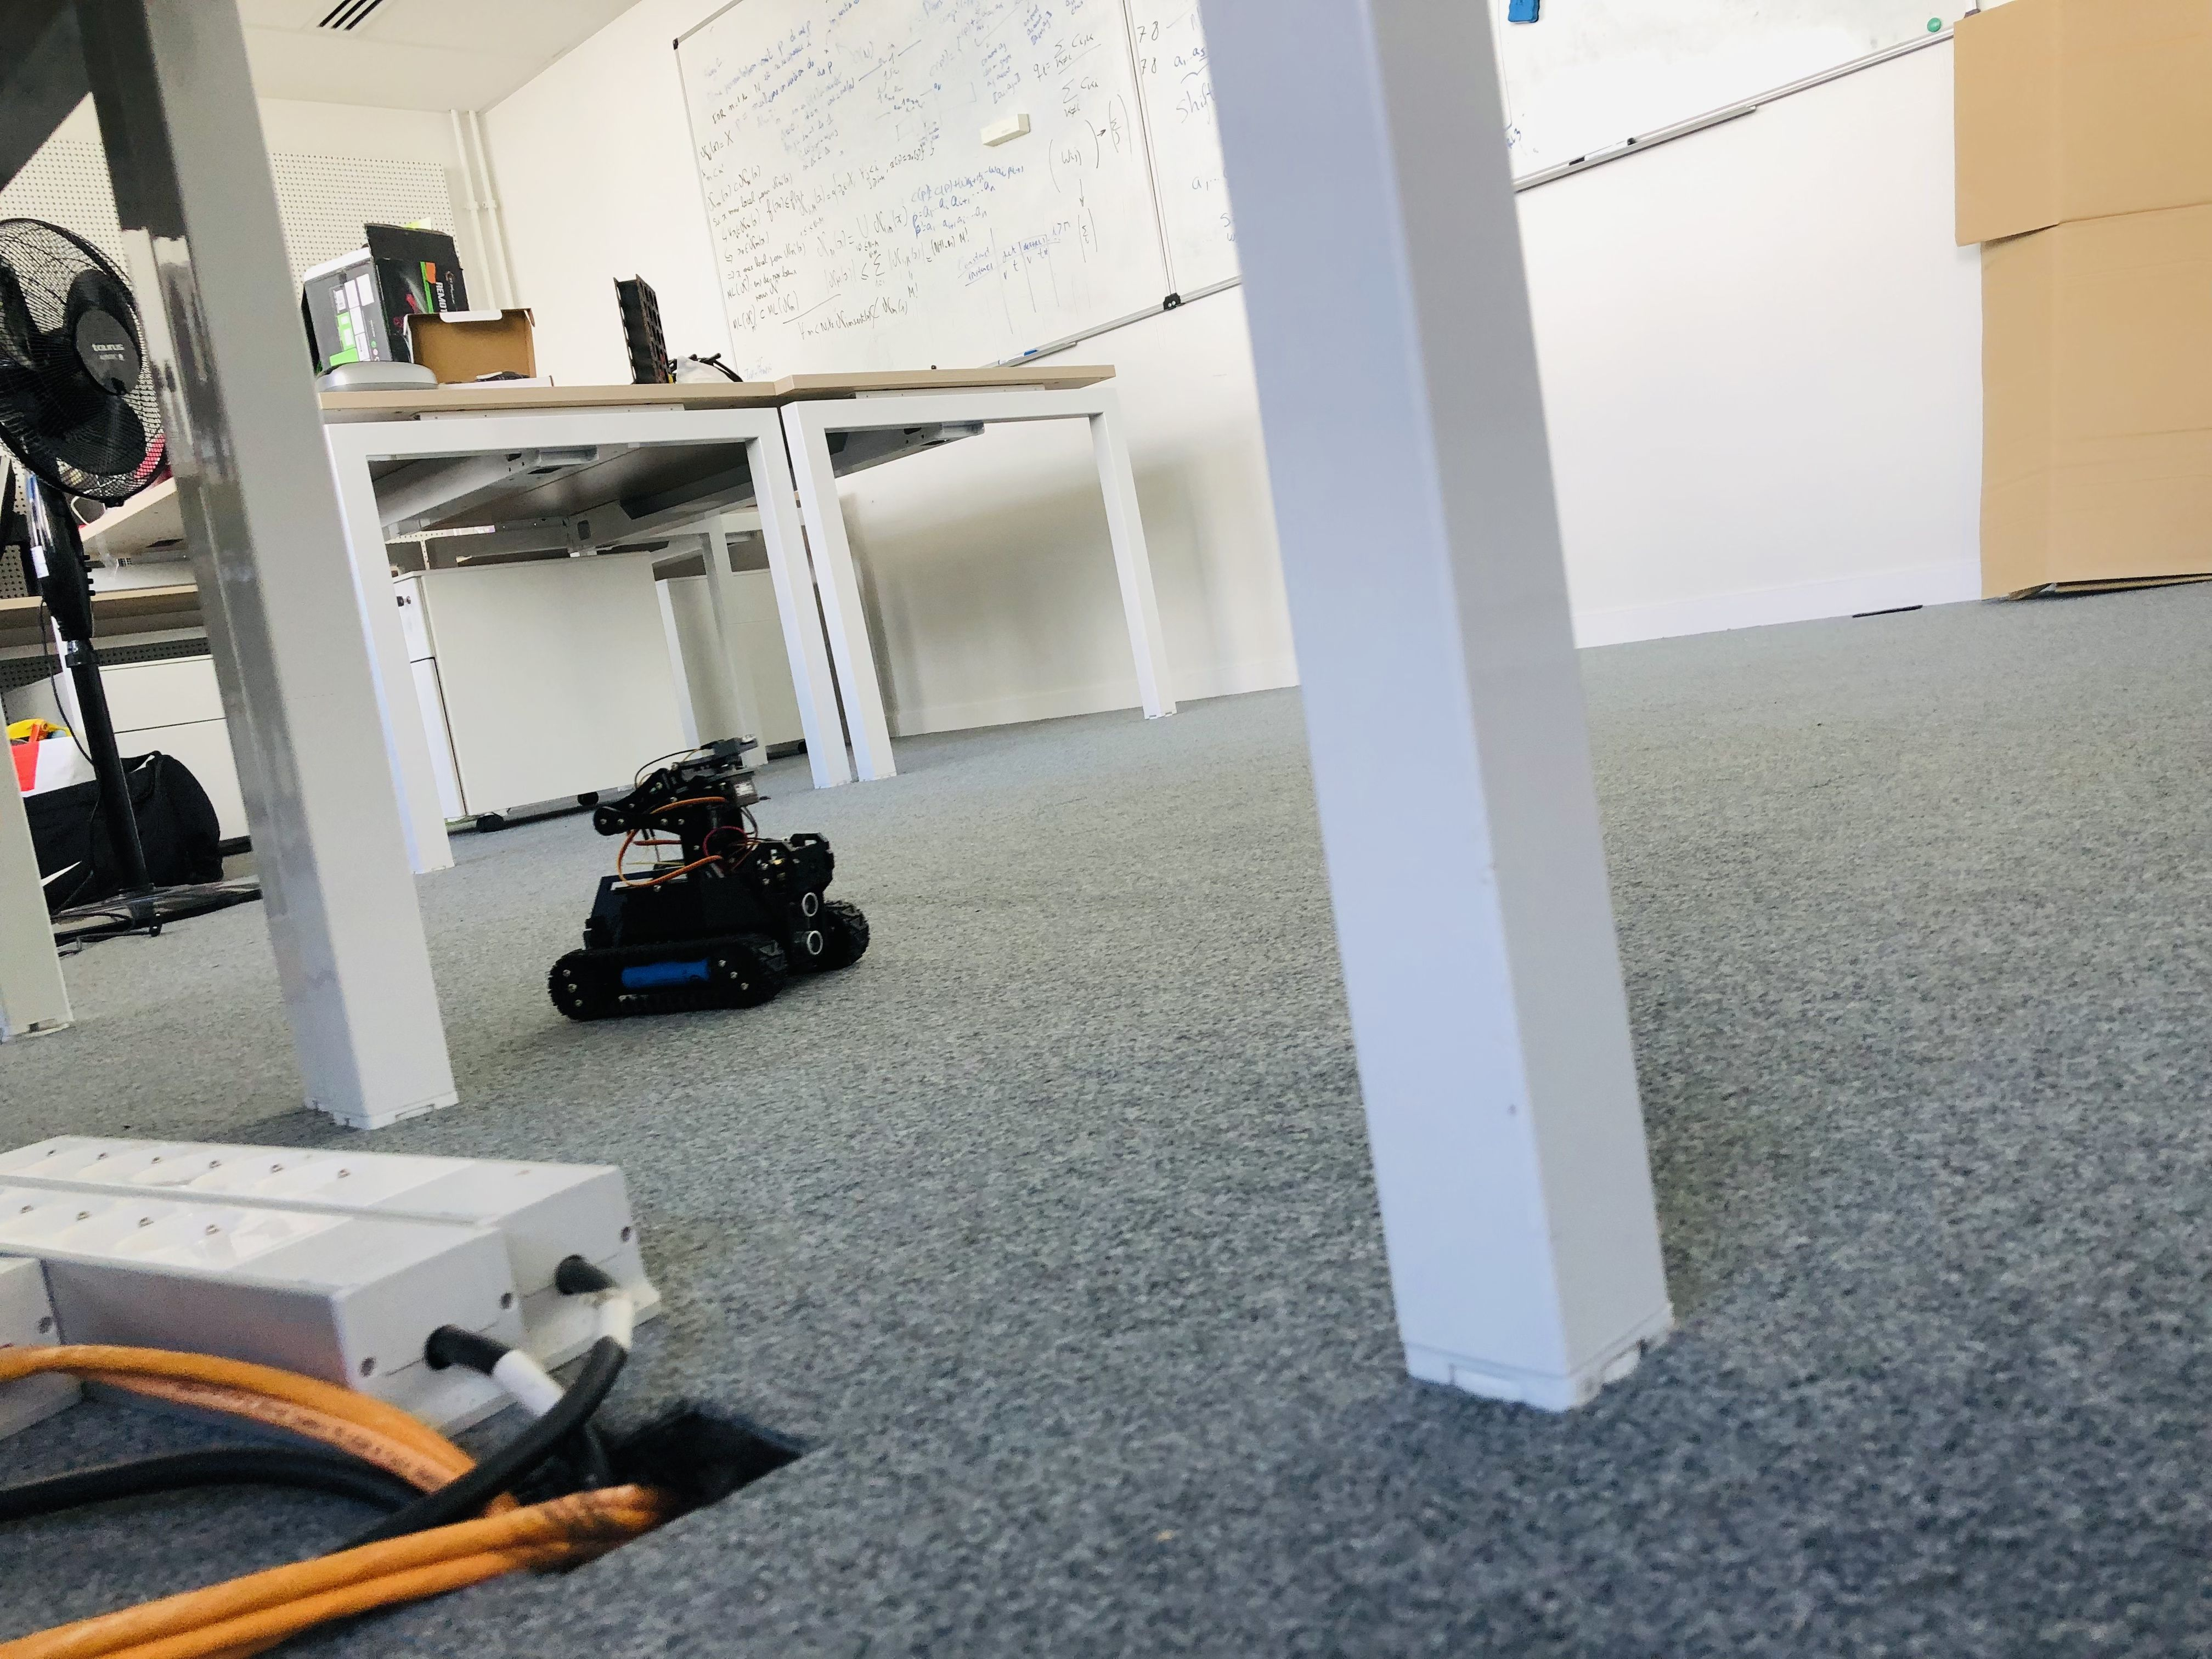rasptank: (549, 723, 869, 1026)
